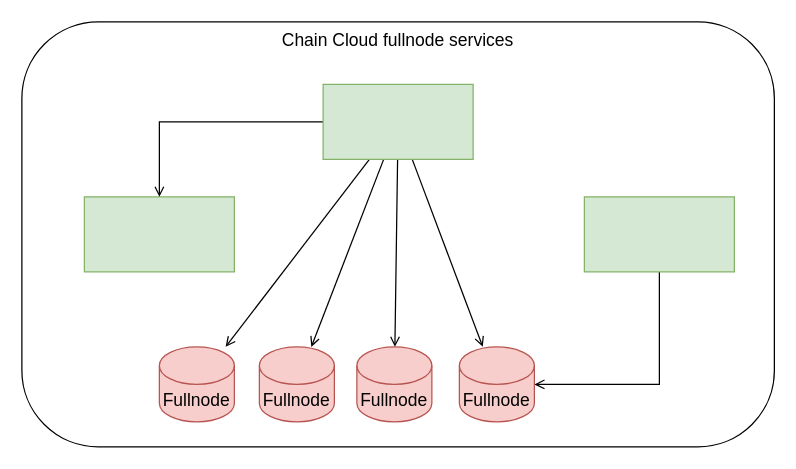
This 796x469 diagram has some shape labels left out. Here are the shapes that lost their labels. From the top down, the box of each, then its label:
(322, 83, 473, 159): API Gateway
(83, 196, 234, 272): API Key service
(583, 196, 734, 272): Monitoring service
